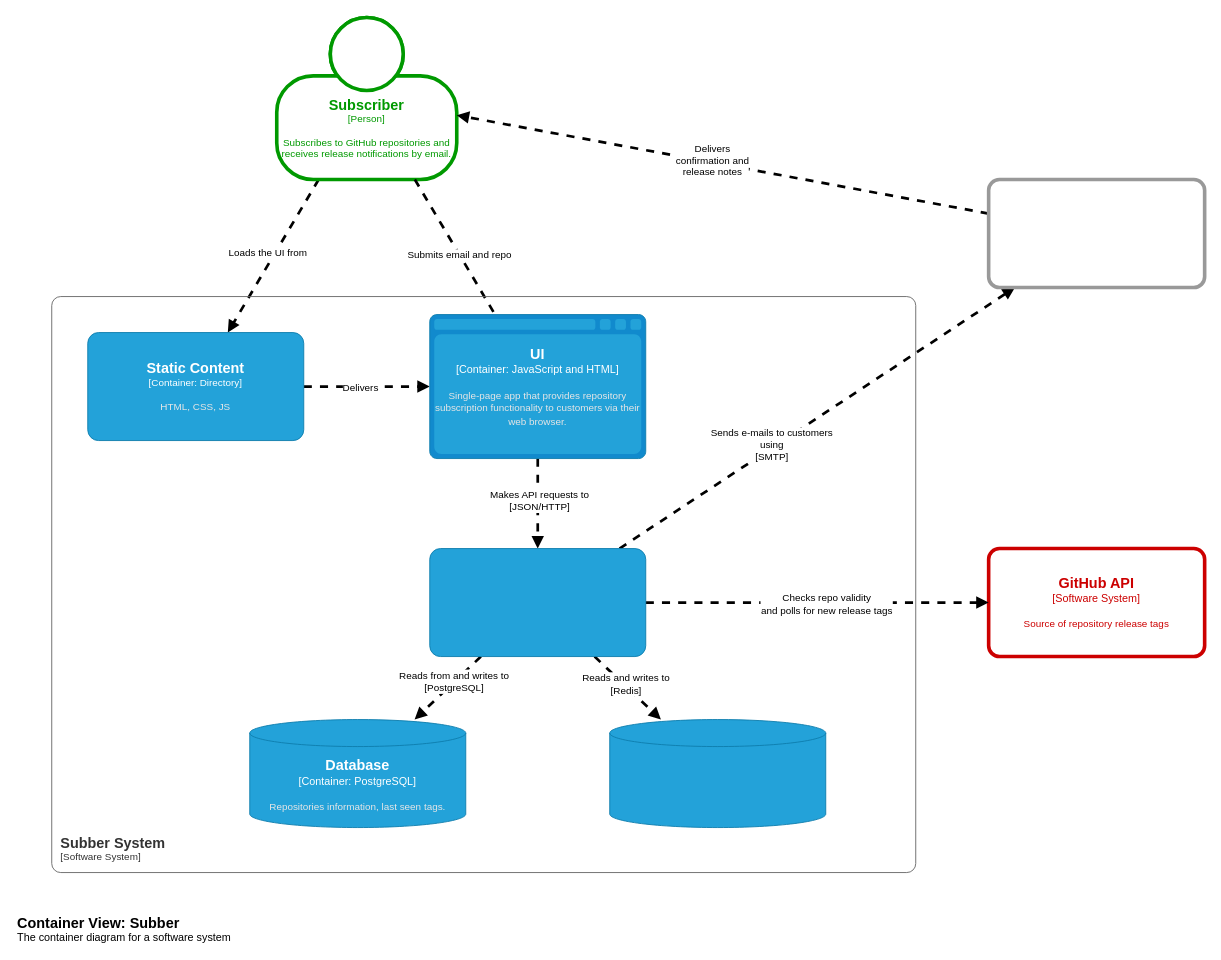
Image size: 1221x960. Some labels were removed from this diagram. Here are the shapes that lost their labels. From the top down, the centre of each, then its label:
At point 1096,233: "SMTP Server [Software System] Delivers emails to subscribers".
At point 537,602: "Backend [Container: Go] Provides subscription functionality via a JSON/HTTP API.".
At point 717,773: "Cache [Container: Redis] Repository tags.".
